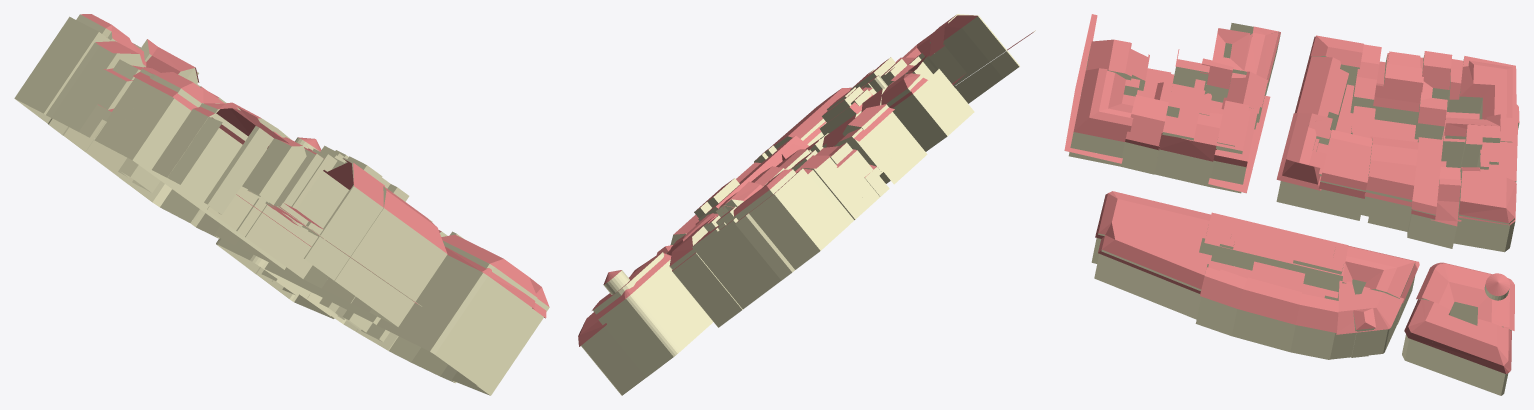
Rendered from tile_038.glb.
3 renders of one model, left to right at view 1: azimuth 30°, elevation 25°; view 2: azimuth 150°, elevation 25°; view 3: azimuth 270°, elevation 25°, orthographic. The views are drawn at different scales.
Visible parts, largest first — view 1: Batched_Building_ID_D080E9F6-2680-4558-AFB5-AEA108465B4E, Batched_Building_ID_D1E262B9-939E-4C02-A7D8-35174924098B; view 2: Batched_Building_ID_D080E9F6-2680-4558-AFB5-AEA108465B4E, Batched_Building_ID_D1E262B9-939E-4C02-A7D8-35174924098B; view 3: Batched_Building_ID_D1E262B9-939E-4C02-A7D8-35174924098B, Batched_Building_ID_D080E9F6-2680-4558-AFB5-AEA108465B4E.
Part boxes in pixels (left/top/right/bottom): Batched_Building_ID_D080E9F6-2680-4558-AFB5-AEA108465B4E: left=14, top=14, right=549, bottom=395; Batched_Building_ID_D1E262B9-939E-4C02-A7D8-35174924098B: left=81, top=14, right=549, bottom=318; Batched_Building_ID_D080E9F6-2680-4558-AFB5-AEA108465B4E: left=581, top=14, right=1035, bottom=395; Batched_Building_ID_D1E262B9-939E-4C02-A7D8-35174924098B: left=578, top=15, right=1034, bottom=346; Batched_Building_ID_D1E262B9-939E-4C02-A7D8-35174924098B: left=1064, top=14, right=1519, bottom=373; Batched_Building_ID_D080E9F6-2680-4558-AFB5-AEA108465B4E: left=1064, top=23, right=1519, bottom=395.
Bounding box in the file's own units: 103 × 106 × 153.
